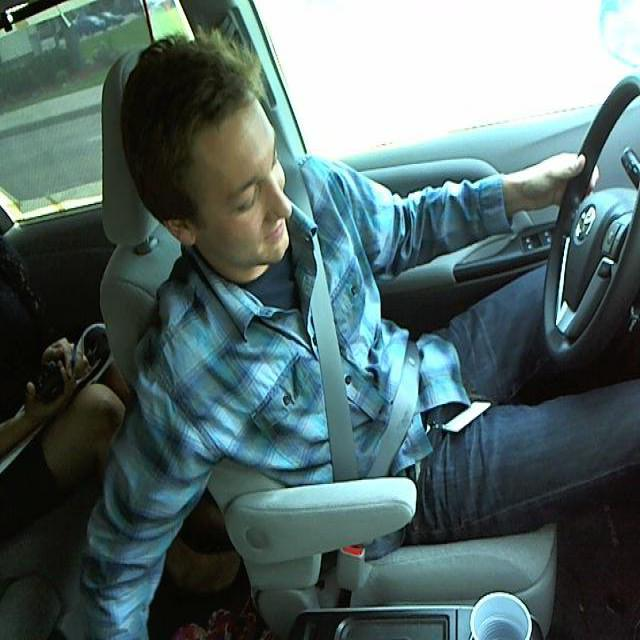seatbelt: (285, 196, 436, 467)
